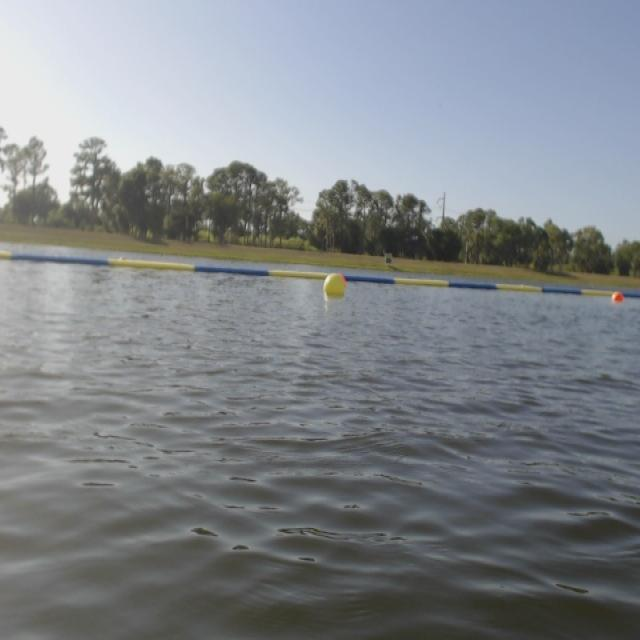Orange__Buoy: (610, 288, 627, 308)
